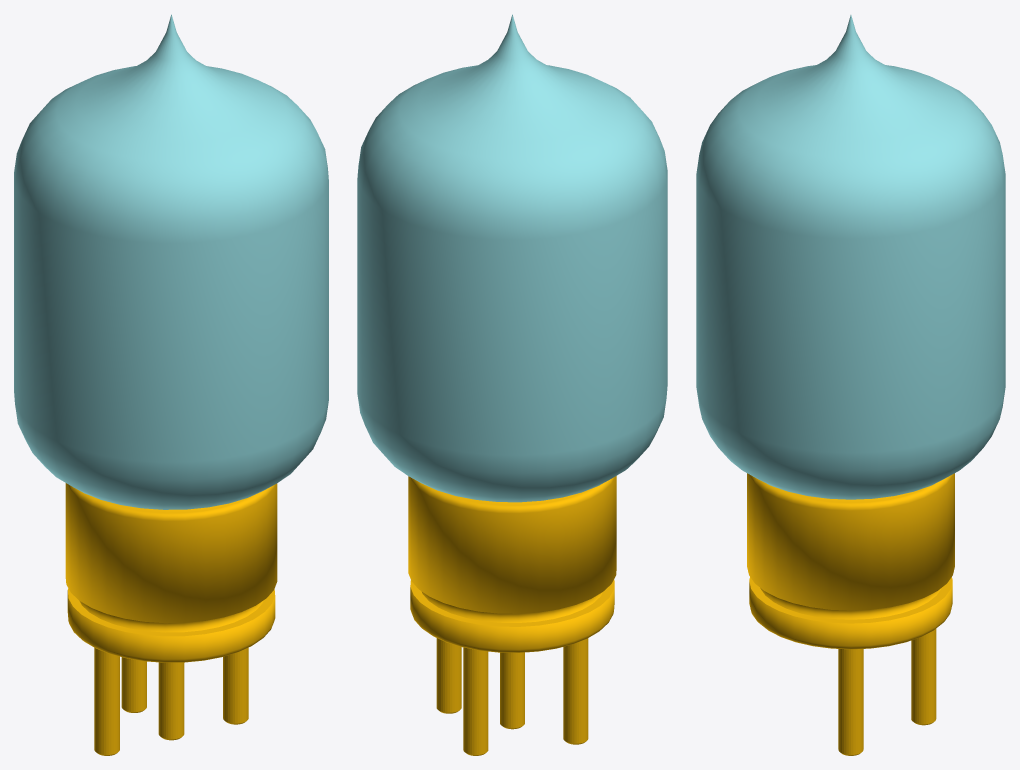
The model's file is 1910_vacuum_tube.fbx.
3 views of the same model, side by side, from view 1: azimuth 30°, elevation 25°; view 2: azimuth 150°, elevation 25°; view 3: azimuth 270°, elevation 25° (orthographic). The views are drawn at different scales.
Visible parts, largest first — view 1: 1910_vacuum_tube; view 2: 1910_vacuum_tube; view 3: 1910_vacuum_tube.
Boxes of the visible parts, x1=… form: 1910_vacuum_tube: x1=14, y1=14, x2=328, y2=755; 1910_vacuum_tube: x1=357, y1=14, x2=667, y2=755; 1910_vacuum_tube: x1=696, y1=15, x2=1005, y2=755.
Bounding box in the file's own units: 238 × 600 × 238.
